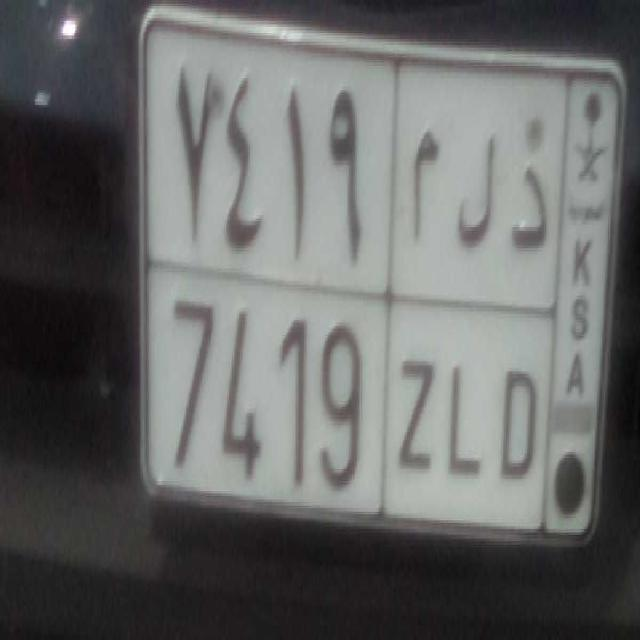license_plate: (157, 266, 542, 560)
